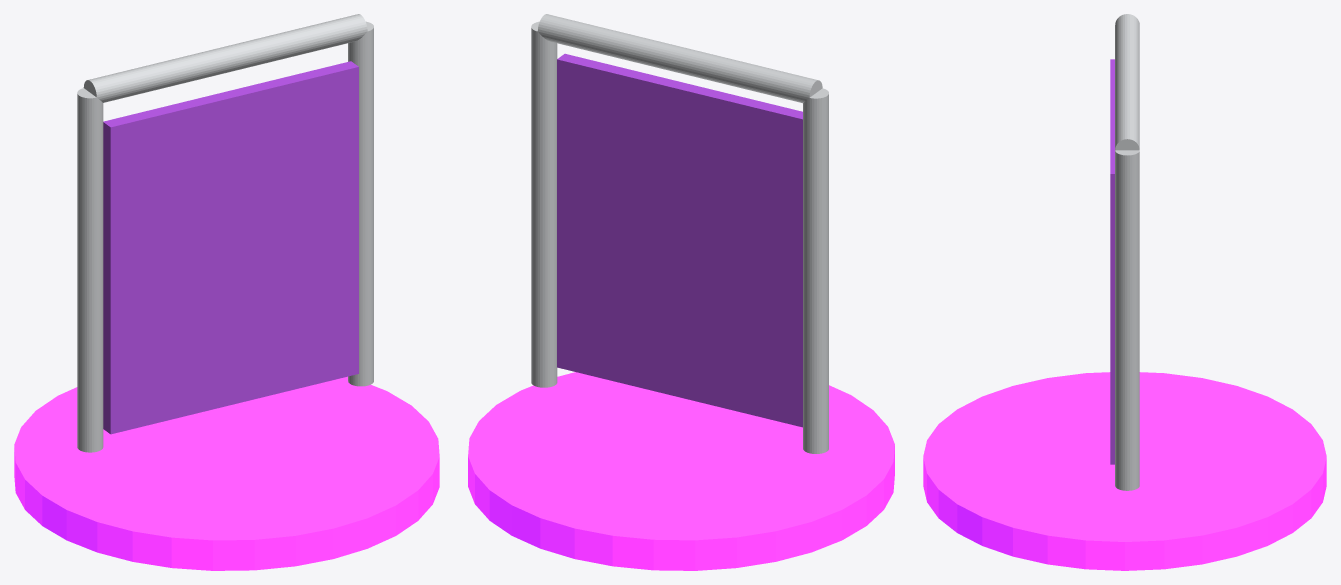
The model's file is modelling_backdrop.glb.
3 renders of one model, left to right at view 1: azimuth 30°, elevation 25°; view 2: azimuth 150°, elevation 25°; view 3: azimuth 270°, elevation 25°, orthographic. The views are drawn at different scales.
Visible parts, largest first — view 1: 05_19_Popular_Modelling_Backdrop_part_04, 05_19_Popular_Modelling_Backdrop_ROOT_base, 05_19_Popular_Modelling_Backdrop_part_01, 05_19_Popular_Modelling_Backdrop_part_03, 05_19_Popular_Modelling_Backdrop_part_02; view 2: 05_19_Popular_Modelling_Backdrop_part_04, 05_19_Popular_Modelling_Backdrop_ROOT_base, 05_19_Popular_Modelling_Backdrop_part_01, 05_19_Popular_Modelling_Backdrop_part_02, 05_19_Popular_Modelling_Backdrop_part_03; view 3: 05_19_Popular_Modelling_Backdrop_ROOT_base, 05_19_Popular_Modelling_Backdrop_part_02, 05_19_Popular_Modelling_Backdrop_part_03, 05_19_Popular_Modelling_Backdrop_part_04.
Part boxes in pixels (x1,y1,x2,y2): 05_19_Popular_Modelling_Backdrop_part_04: (103, 61, 358, 434); 05_19_Popular_Modelling_Backdrop_ROOT_base: (14, 376, 439, 570); 05_19_Popular_Modelling_Backdrop_part_01: (77, 88, 103, 452); 05_19_Popular_Modelling_Backdrop_part_03: (83, 14, 367, 102); 05_19_Popular_Modelling_Backdrop_part_02: (348, 21, 373, 386); 05_19_Popular_Modelling_Backdrop_part_04: (557, 53, 802, 427); 05_19_Popular_Modelling_Backdrop_ROOT_base: (468, 372, 894, 570); 05_19_Popular_Modelling_Backdrop_part_01: (803, 88, 828, 453); 05_19_Popular_Modelling_Backdrop_part_02: (531, 21, 557, 387); 05_19_Popular_Modelling_Backdrop_part_03: (537, 14, 822, 103); 05_19_Popular_Modelling_Backdrop_ROOT_base: (923, 372, 1326, 570); 05_19_Popular_Modelling_Backdrop_part_02: (1115, 150, 1139, 490); 05_19_Popular_Modelling_Backdrop_part_03: (1115, 14, 1139, 150); 05_19_Popular_Modelling_Backdrop_part_04: (1110, 59, 1114, 464).
Bounding box in the file's own units: 0.76 × 0.85 × 0.76.
